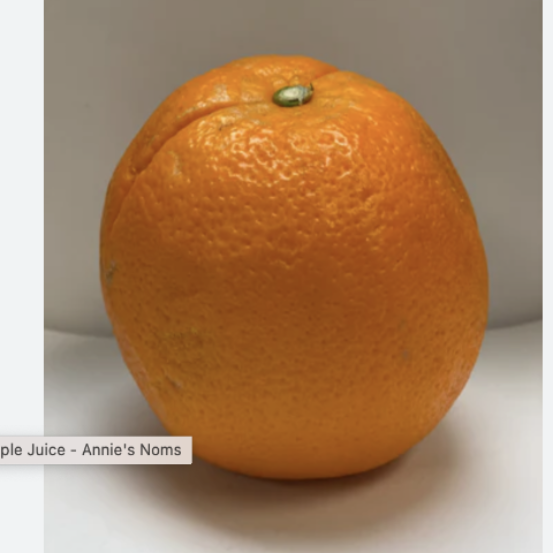orange: (68, 29, 510, 480)
